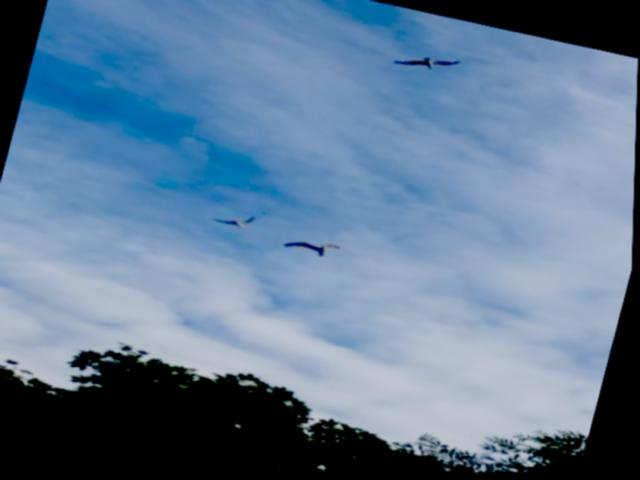bird: (333, 23, 498, 105), (261, 219, 381, 281), (189, 195, 287, 248)
